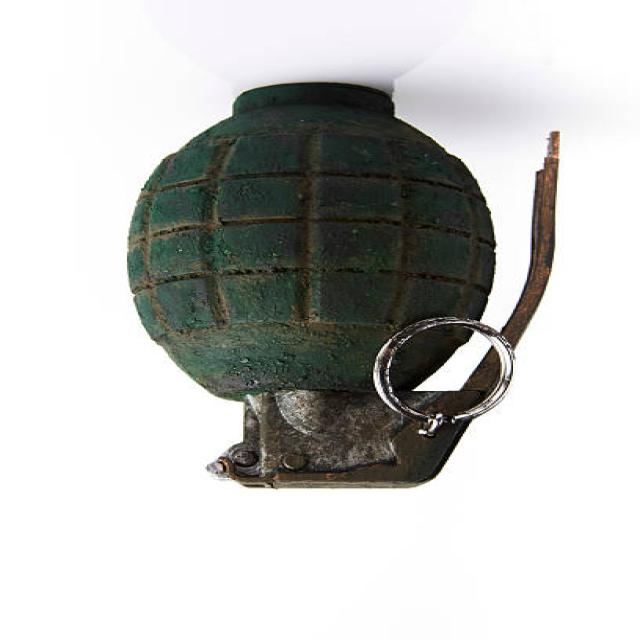grenade: (108, 77, 580, 496)
